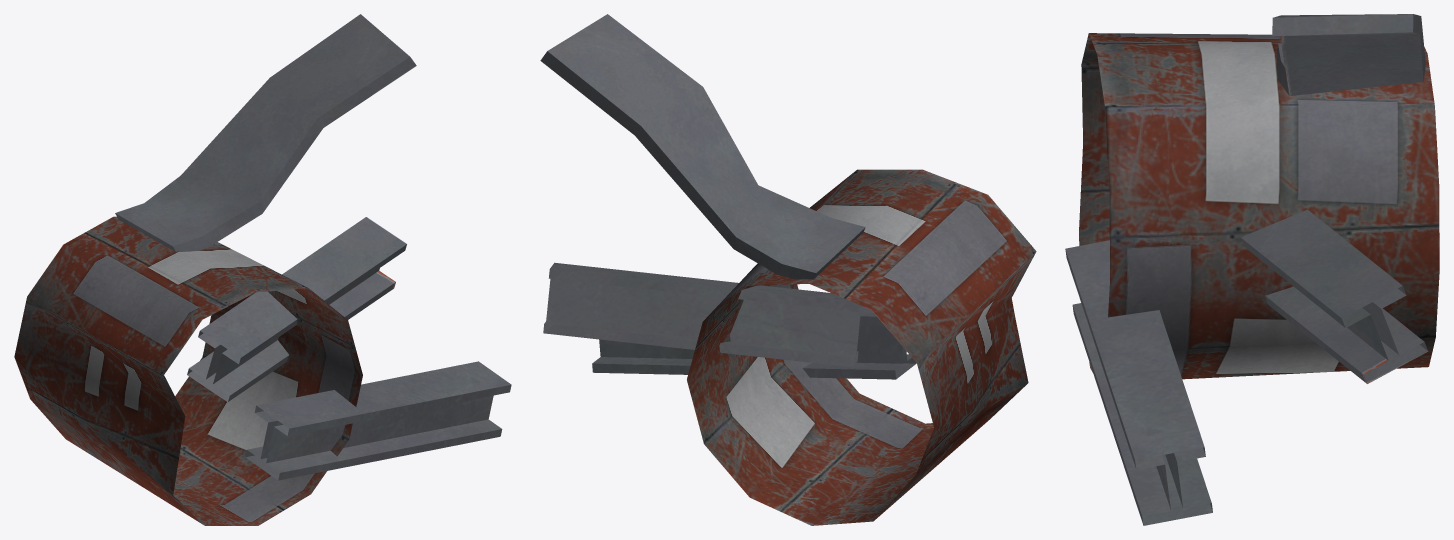
The model's file is HCP12.fbx.
3 views of the same model, side by side, from view 1: azimuth 30°, elevation 25°; view 2: azimuth 150°, elevation 25°; view 3: azimuth 270°, elevation 25° (orthographic). The views are drawn at different scales.
Parts seen in each view (by area): view 1: twelveD; view 2: twelveD; view 3: twelveD.
Part boxes in pixels (x1,y1,x2,y2): twelveD: (14, 14, 511, 525); twelveD: (540, 14, 1036, 525); twelveD: (1065, 14, 1439, 525).
Size of the model in its own units: 5749 by 5136 by 3484.
1 material, 1 textured.
